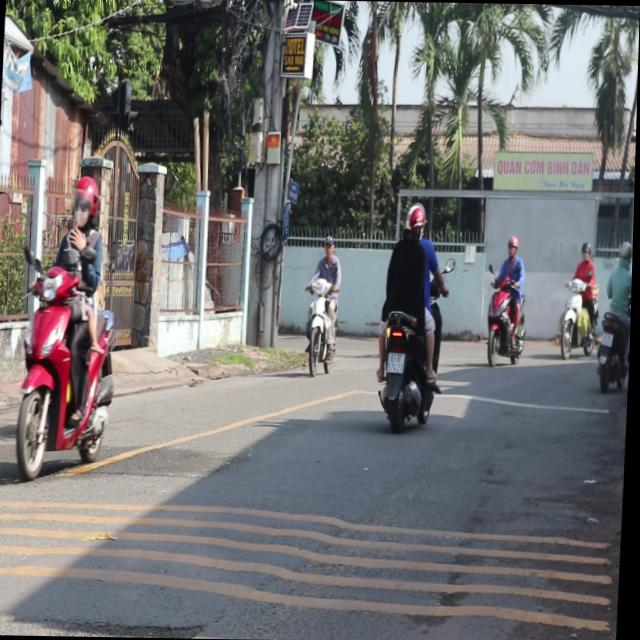helmet: (70, 175, 100, 228), (403, 201, 427, 237)
licenseplate: (11, 172, 128, 482), (372, 200, 449, 432)
nohelmet: (389, 352, 406, 372)
